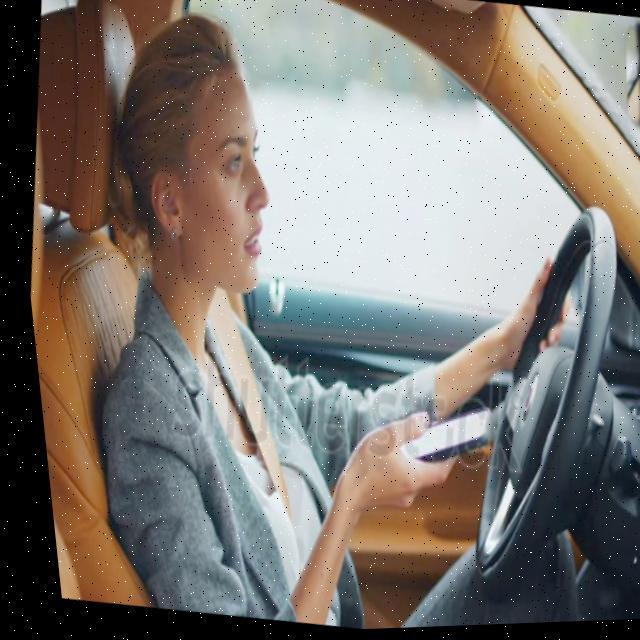PhoneCall: (378, 396, 488, 481)
